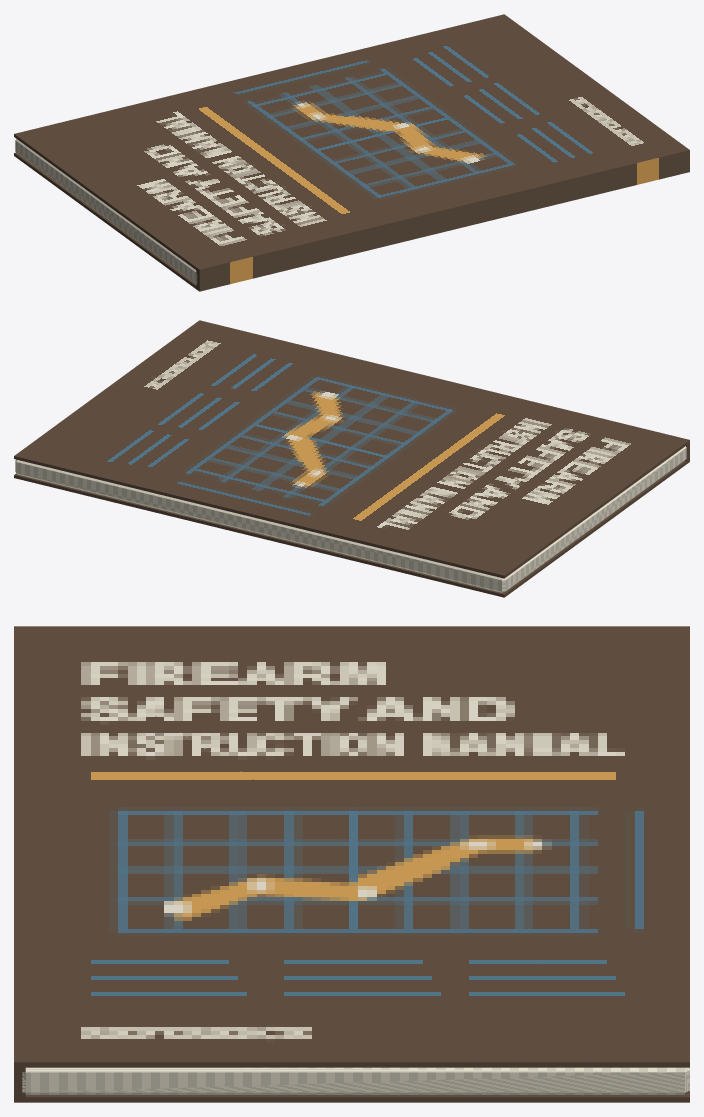
File: gun_manual.glb
3 renders of one model, top to bottom at view 1: azimuth 30°, elevation 25°; view 2: azimuth 150°, elevation 25°; view 3: azimuth 270°, elevation 25°, orthographic. The views are drawn at different scales.
Parts seen in each view (by area): view 1: block_front, block_spine, block_pages, block_back; view 2: block_front, block_pages, block_back, block_spine; view 3: block_front, block_pages, block_back, block_spine.
Boxes of the visible parts, <box> form: block_front: <box>14,14,688,271</box>; block_spine: <box>196,149,689,291</box>; block_pages: <box>15,139,197,284</box>; block_back: <box>14,152,198,290</box>; block_front: <box>14,321,689,578</box>; block_pages: <box>15,446,686,593</box>; block_back: <box>14,460,689,597</box>; block_spine: <box>198,320,689,461</box>; block_front: <box>17,626,689,1067</box>; block_pages: <box>22,1067,689,1094</box>; block_back: <box>17,1091,689,1102</box>; block_spine: <box>14,626,25,1102</box>.
Size of the model in its own units: 0.0967 by 0.00414 by 0.0634.
Materials: 1 (1 with a texture image).
